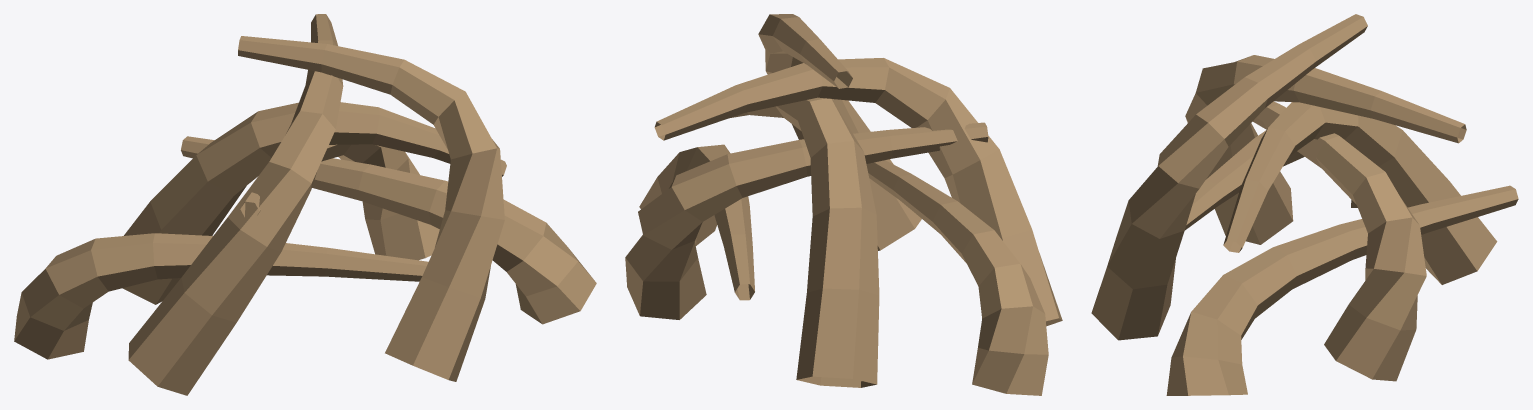
Rendered from root_cluster.glb.
3 views of the same model, side by side, from view 1: azimuth 30°, elevation 25°; view 2: azimuth 150°, elevation 25°; view 3: azimuth 270°, elevation 25° (orthographic).
Parts seen in each view (by area): view 1: root_cluster; view 2: root_cluster; view 3: root_cluster.
Part boxes in pixels (x1,y1,x2,y2): root_cluster: [14, 14, 596, 395]; root_cluster: [625, 14, 1062, 395]; root_cluster: [1091, 14, 1518, 395].
Bounding box in the file's own units: 2.19 × 1.21 × 1.68.
